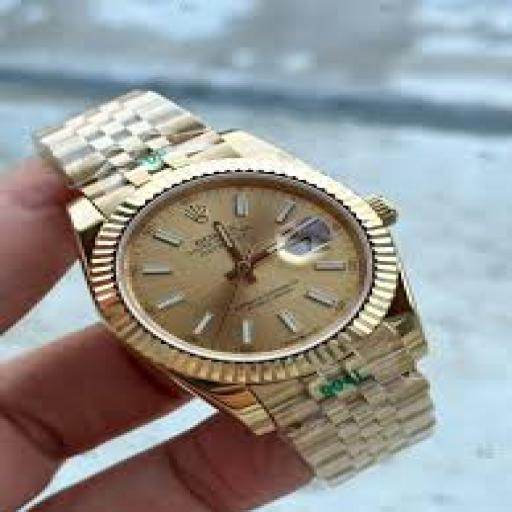KolSaati: (21, 85, 478, 487)
